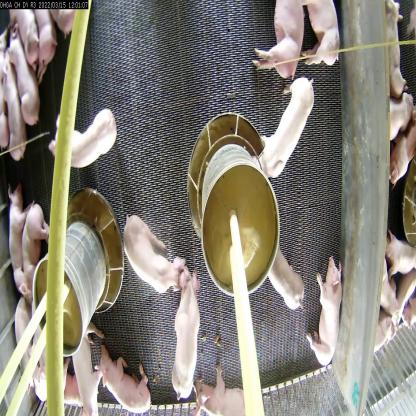Pig: (257, 73, 314, 189), (119, 212, 181, 305), (169, 274, 210, 401), (42, 105, 118, 171), (63, 321, 106, 415), (252, 5, 305, 81), (93, 343, 149, 413), (8, 27, 45, 126), (308, 258, 341, 365), (298, 0, 344, 68), (0, 53, 27, 157), (19, 206, 49, 295), (267, 246, 304, 310), (3, 186, 26, 279), (17, 302, 37, 390), (368, 308, 401, 358)
